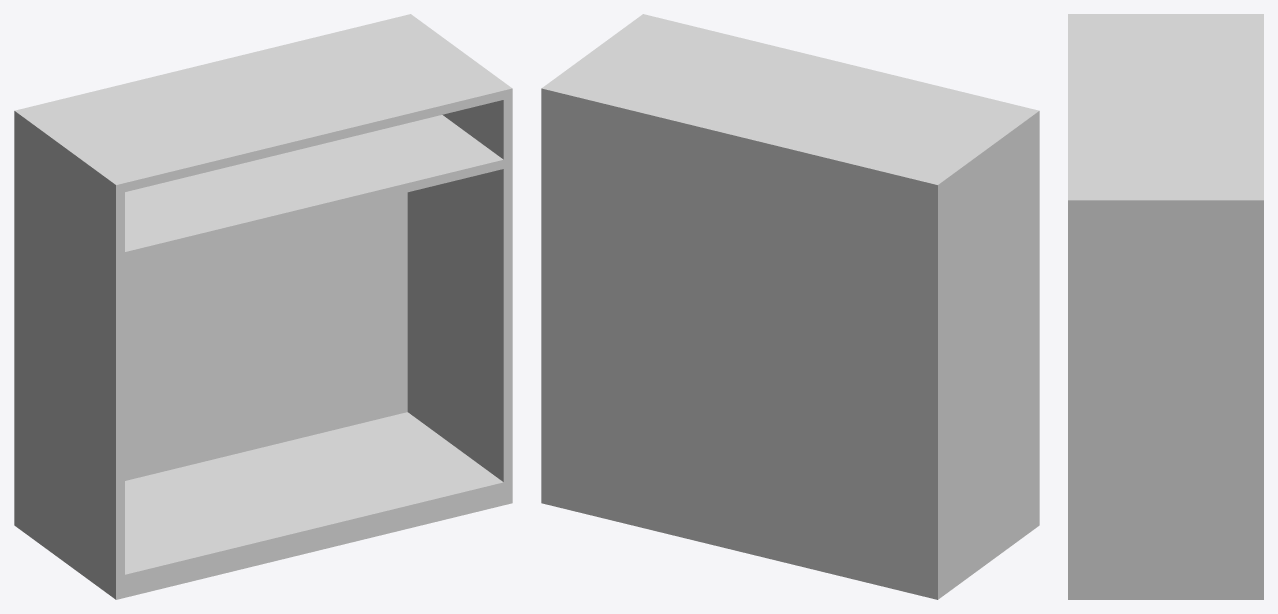
The model's file is Dresser2_C3.fbx.
3 views of the same model, side by side, from view 1: azimuth 30°, elevation 25°; view 2: azimuth 150°, elevation 25°; view 3: azimuth 270°, elevation 25° (orthographic). The views are drawn at different scales.
Parts seen in each view (by area): view 1: Dresser2_C3; view 2: Dresser2_C3; view 3: Dresser2_C3.
Boxes of the visible parts, box(x1,y1,x2,y2) form: Dresser2_C3: box(14, 14, 512, 599); Dresser2_C3: box(541, 14, 1039, 599); Dresser2_C3: box(1068, 14, 1263, 599).
Size of the model in its own units: 90 by 90 by 40.
